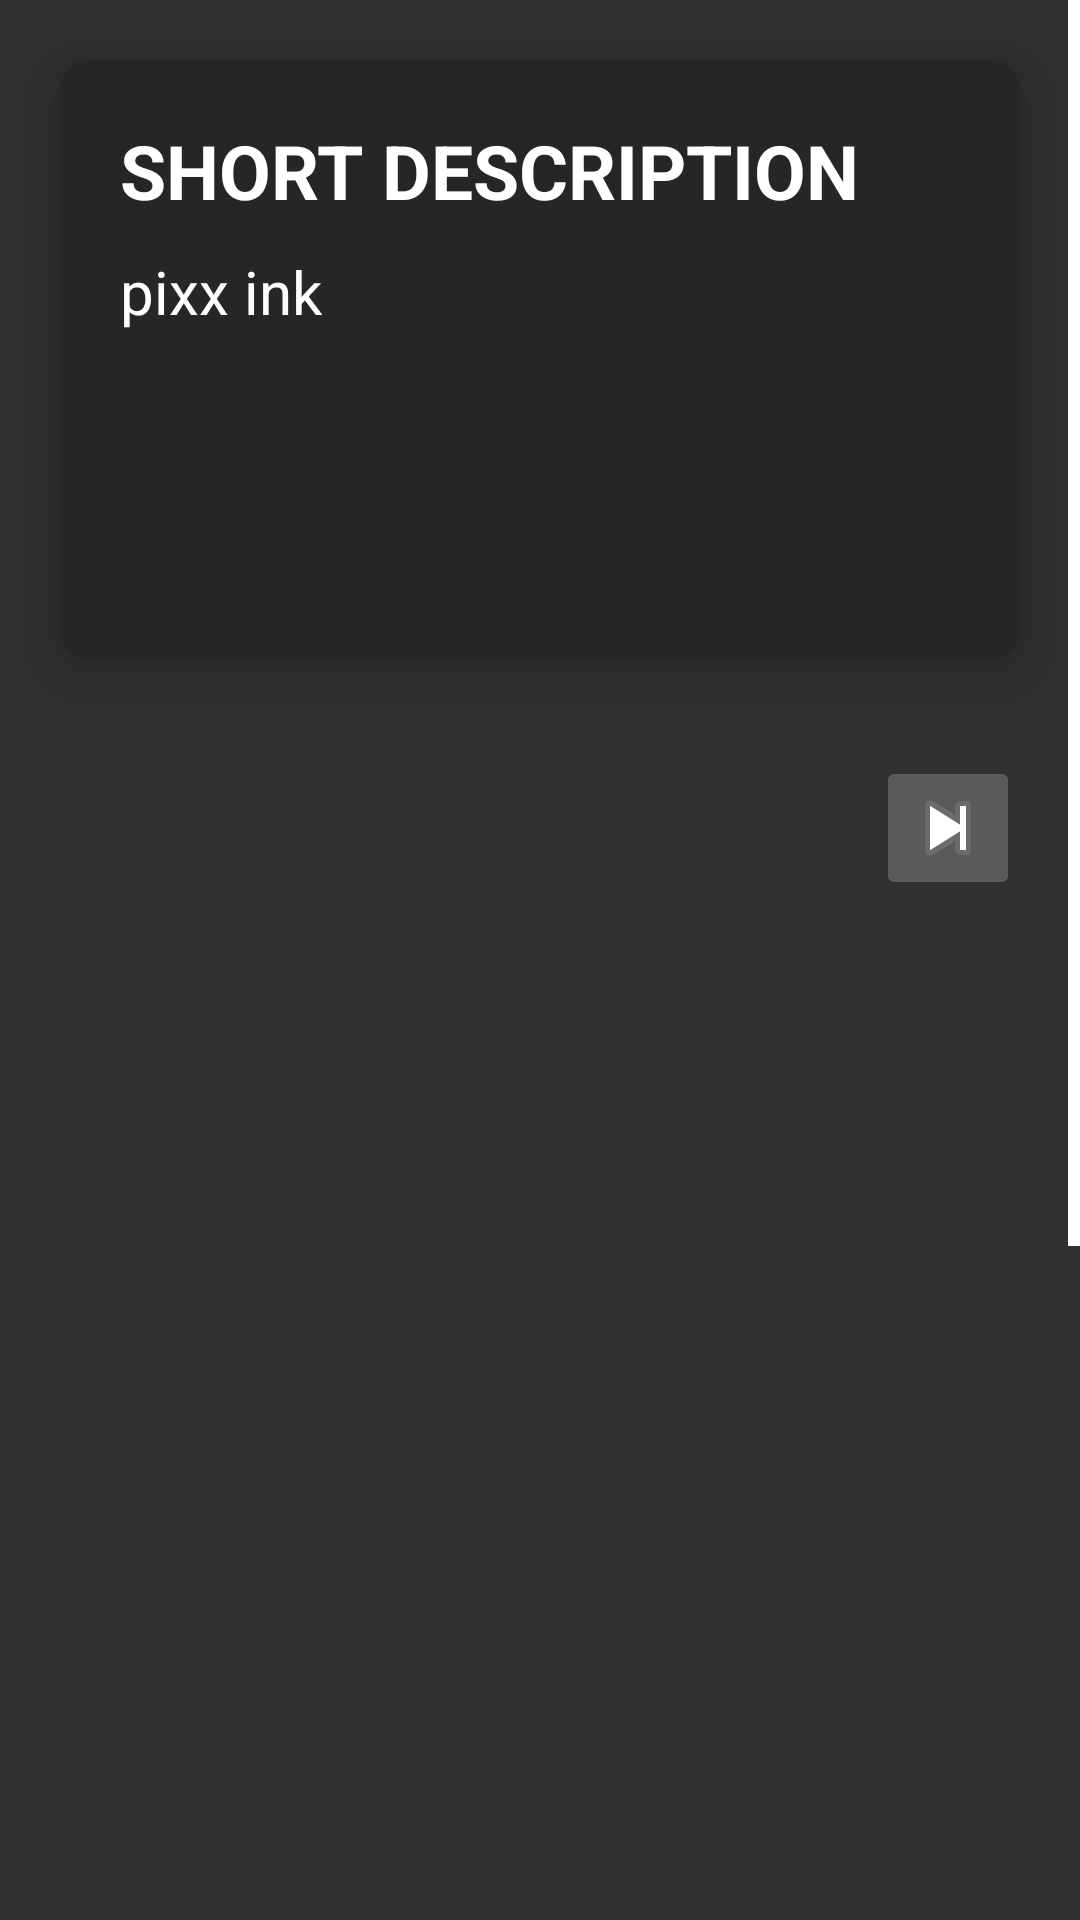

Named icons in this screenshot (1080px x 1920px) and their bounding boxes, (x1, y1, x2, y2):
next: (888, 774, 1008, 882)
